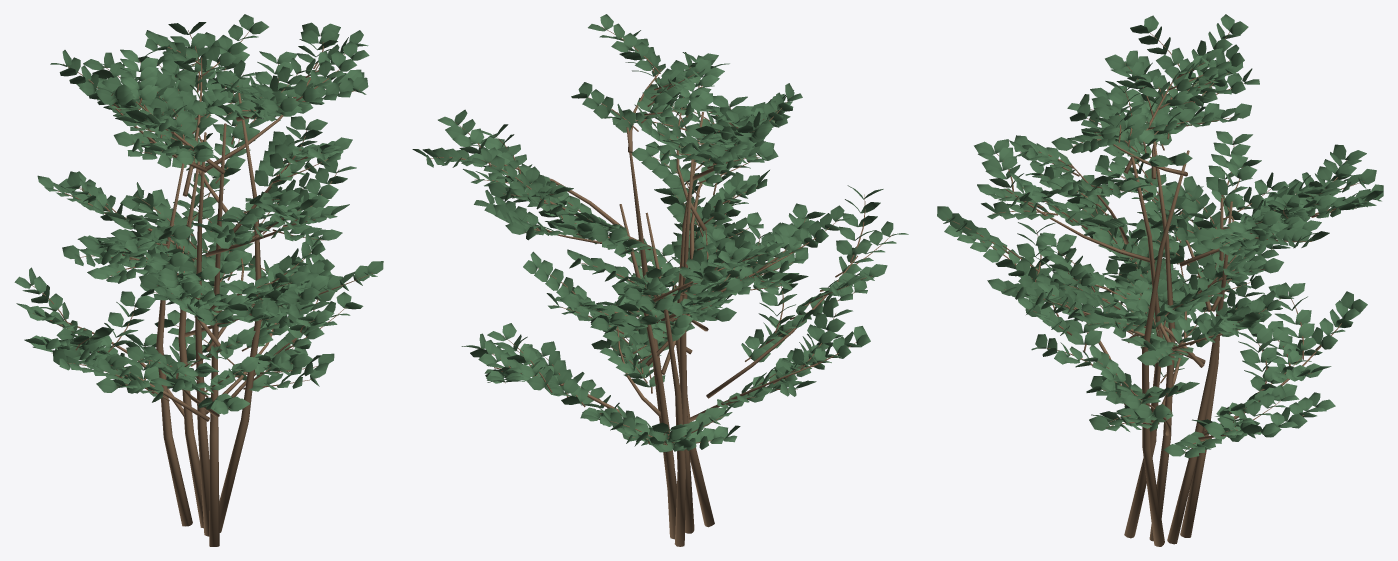
Rendered from Myrte_1_LOD0.fbx.
The picture shows the model from 3 angles, left to right: view 1: azimuth 30°, elevation 25°; view 2: azimuth 150°, elevation 25°; view 3: azimuth 270°, elevation 25°; orthographic projection. The views are drawn at different scales.
Visible parts, largest first — view 1: Myrte_1_LOD0; view 2: Myrte_1_LOD0; view 3: Myrte_1_LOD0.
Part boxes in pixels (<box>): Myrte_1_LOD0: <box>14,14,383,546</box>; Myrte_1_LOD0: <box>412,14,908,546</box>; Myrte_1_LOD0: <box>937,14,1383,546</box>.
Bounding box in the file's own units: 194 × 225 × 193.
